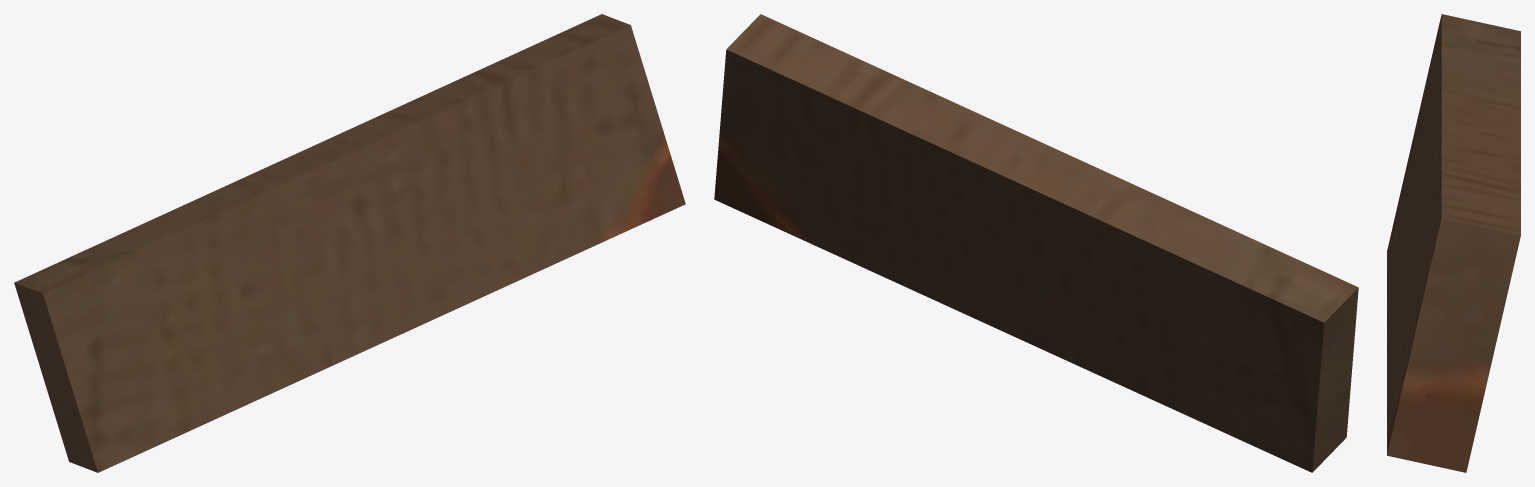
Rendered from fan_center__blade_4.glb.
The picture shows the model from 3 angles, left to right: view 1: azimuth 30°, elevation 25°; view 2: azimuth 150°, elevation 25°; view 3: azimuth 270°, elevation 25°; orthographic projection. The views are drawn at different scales.
Visible parts, largest first — view 1: geometry_0; view 2: geometry_0; view 3: geometry_0.
Boxes of the visible parts, x1,y1,x2,y2 form: geometry_0: (14,14,685,472); geometry_0: (714,14,1358,472); geometry_0: (1387,14,1520,472).
Bounding box in the file's own units: 0.0291 × 0.0138 × 0.00428.
Materials: 1 (1 with a texture image).
